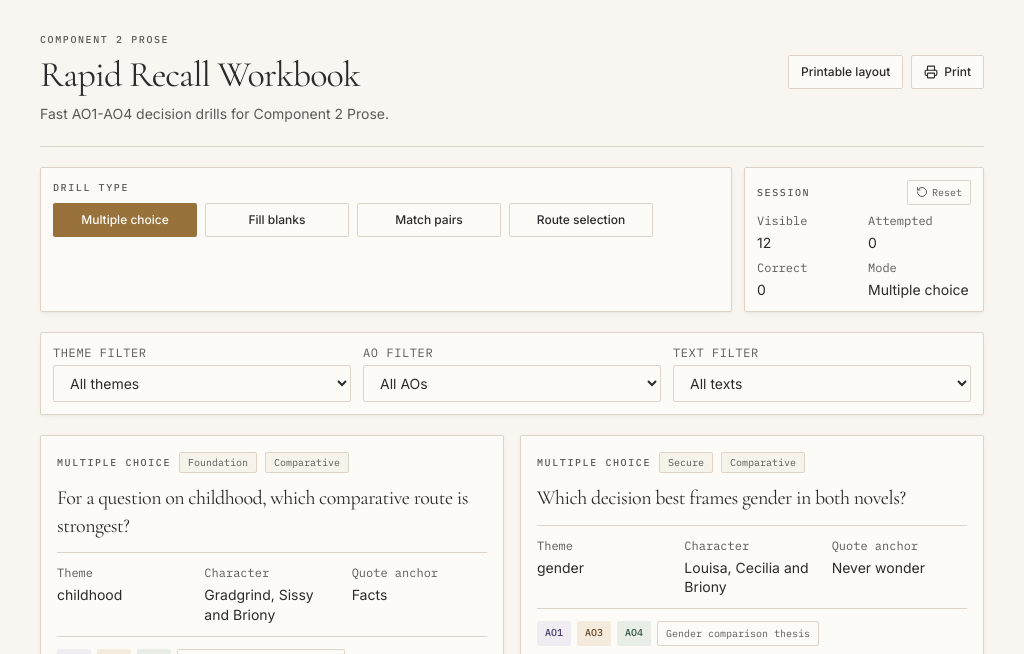
Test: RapidRecall › narrows visible cards with theme and text filters
Expected: the heading "For a question on childhood" is shown, [57,486,468,538]
Expected: the heading "Which decision best frames gender in both novels?" is shown, [537,485,967,513]
Select "childhood" in the dropdown labelled "Theme filter" at (202, 384), box [53,365,351,402]
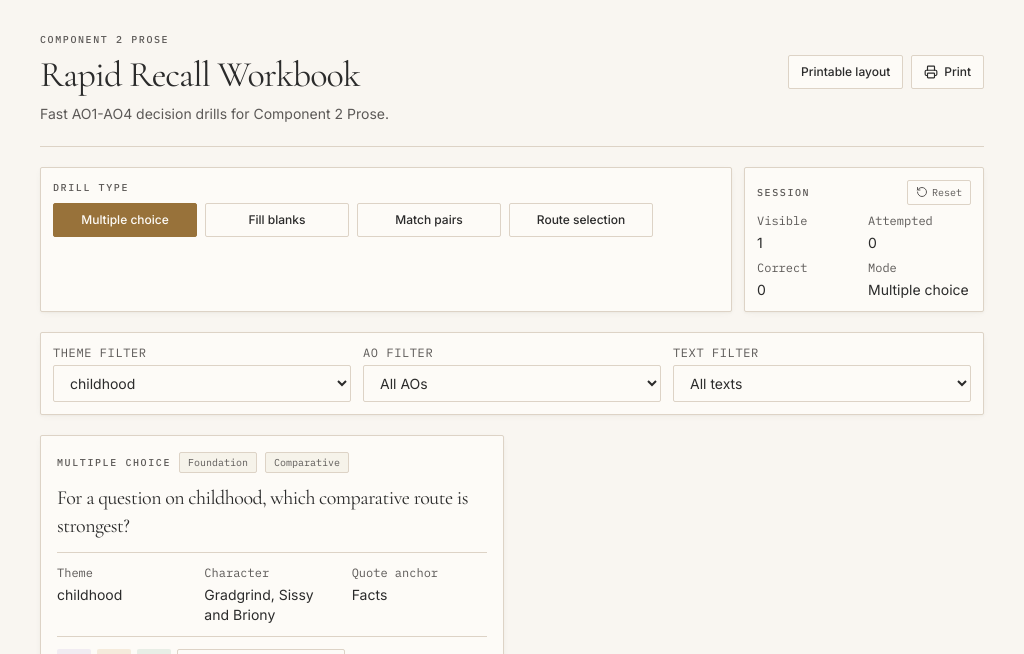
Select "Comparative" in the dropdown labelled "Text filter" at (822, 384), box [673,365,971,402]
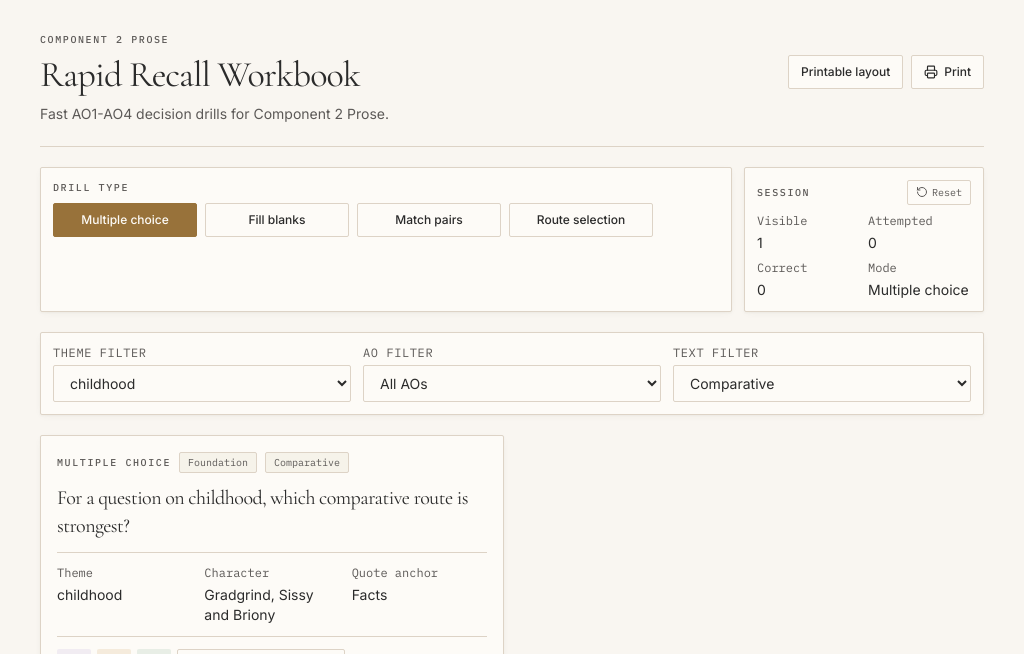
Select "AO3" in the dropdown labelled "AO filter" at (512, 384), box [363,365,661,402]
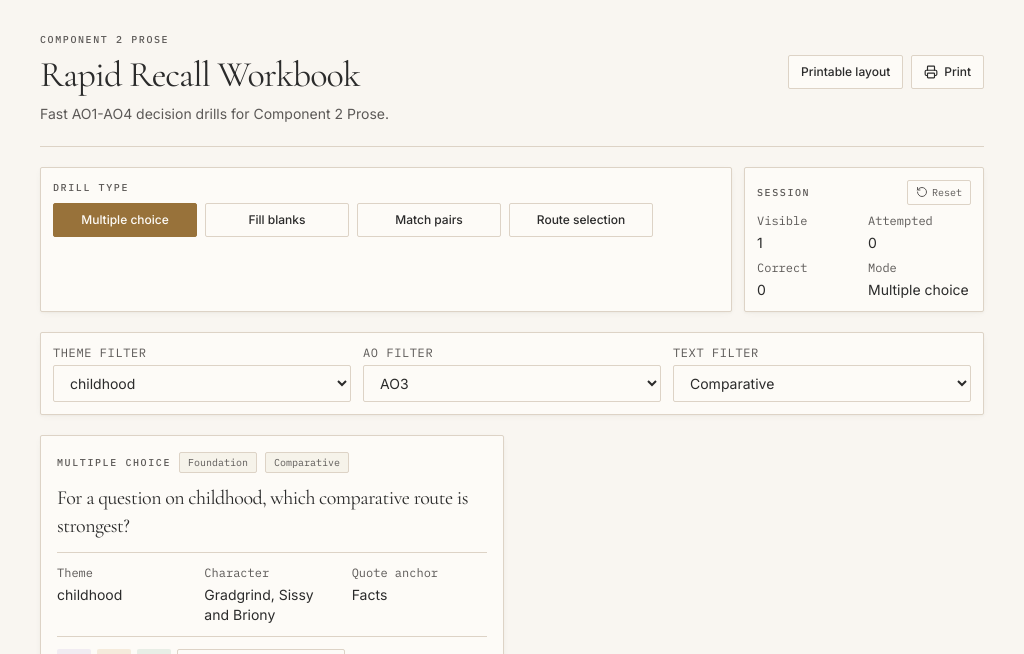
Expected: the heading "For a question on childhood" is shown, [57,486,468,538]
Expected: the heading "Which decision best frames gender" is not shown
Select "AO2" in the dropdown labelled "AO filter" at (512, 384), box [363,365,661,402]
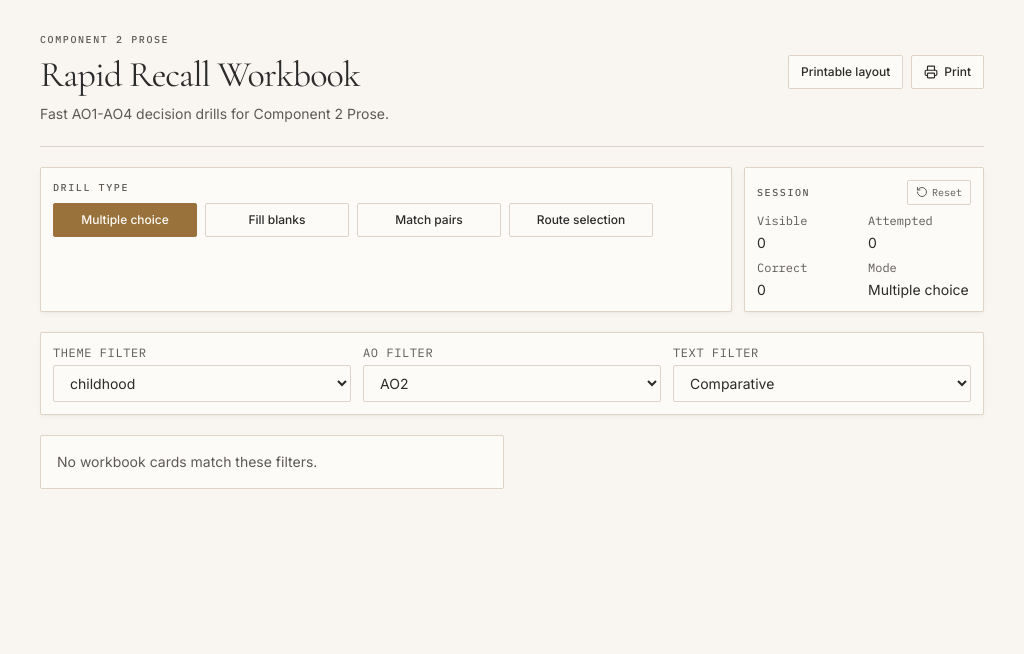
Expected: the element named "Session summary" shows "0", [757,234,766,251]
Now the heading "For a question on childhood" is gone
